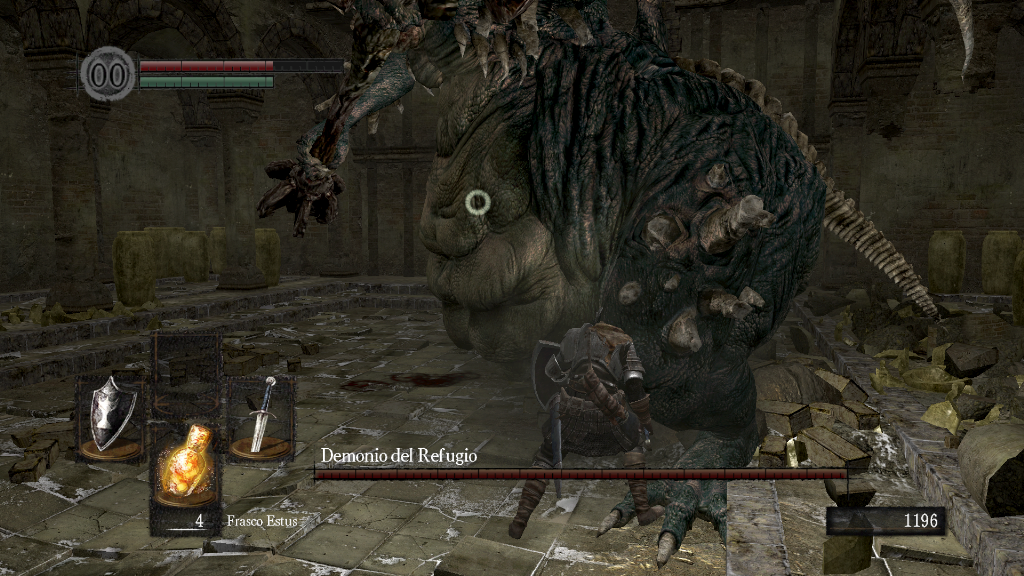asylumDemon: (297, 1, 948, 560)
bossHP: (314, 469, 847, 479)
health: (138, 58, 343, 71)
humanity: (80, 45, 136, 102)
player: (509, 321, 665, 541)
souls: (825, 506, 945, 536)
stamina: (138, 74, 274, 88)
